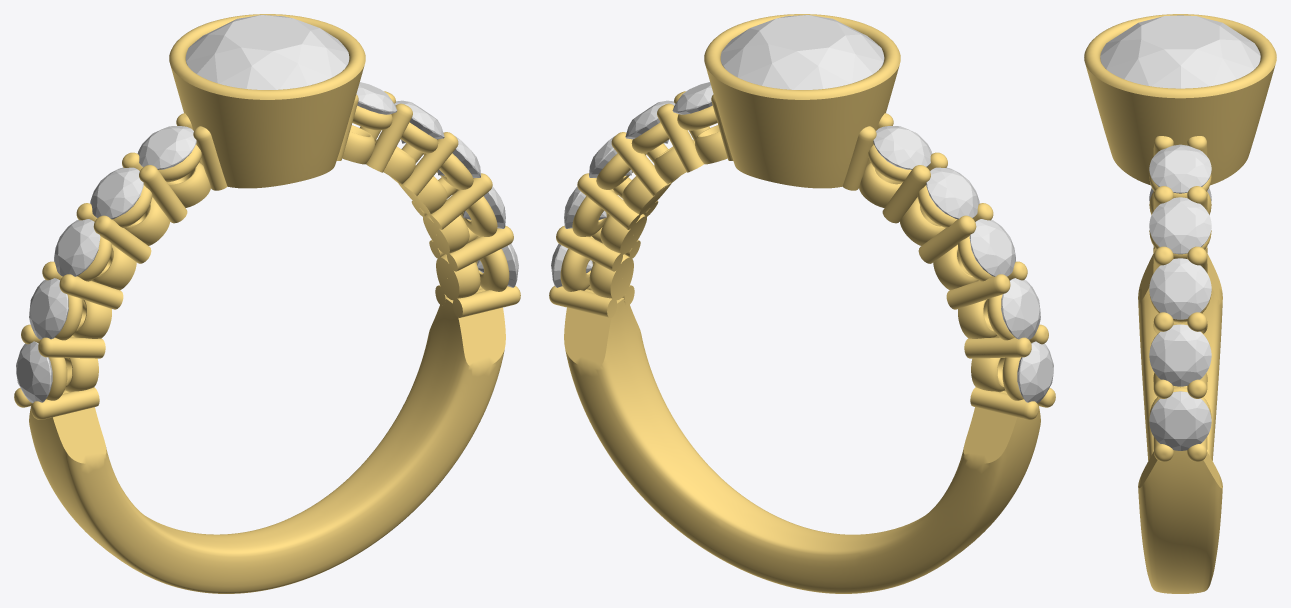
File: diamond-round-yellowgold-bezelset-straighttaperedband-11stone.glb
The picture shows the model from 3 angles, left to right: view 1: azimuth 30°, elevation 25°; view 2: azimuth 150°, elevation 25°; view 3: azimuth 270°, elevation 25°; orthographic projection. The views are drawn at different scales.
Parts seen in each view (by area): view 1: metal, stone, side.001, side.002, side, side.003, side.004, side.005, side.006; view 2: metal, stone, side.001, side.002, side, side.003, side.004, side.005, side.006; view 3: metal, stone, side.008, side.007, side.009, side.006, side.005.
Boxes of the visible parts, x1=… form: metal: x1=14, y1=14, x2=520, y2=593; stone: x1=185, y1=15, x2=349, y2=89; side.001: x1=90, y1=167, x2=143, y2=219; side.002: x1=54, y1=219, x2=100, y2=276; side: x1=137, y1=126, x2=196, y2=169; side.003: x1=29, y1=278, x2=68, y2=339; side.004: x1=16, y1=341, x2=52, y2=403; side.005: x1=356, y1=82, x2=397, y2=114; side.006: x1=394, y1=100, x2=444, y2=143; metal: x1=549, y1=14, x2=1055, y2=593; stone: x1=720, y1=15, x2=884, y2=89; side.001: x1=926, y1=167, x2=979, y2=219; side.002: x1=969, y1=219, x2=1015, y2=276; side: x1=873, y1=126, x2=932, y2=169; side.003: x1=1001, y1=278, x2=1040, y2=339; side.004: x1=1017, y1=341, x2=1053, y2=403; side.005: x1=672, y1=82, x2=713, y2=114; side.006: x1=625, y1=100, x2=675, y2=143; metal: x1=1084, y1=14, x2=1276, y2=593; stone: x1=1100, y1=15, x2=1260, y2=88; side.008: x1=1149, y1=324, x2=1211, y2=386; side.007: x1=1149, y1=258, x2=1211, y2=319; side.009: x1=1149, y1=391, x2=1211, y2=450; side.006: x1=1149, y1=197, x2=1211, y2=254; side.005: x1=1149, y1=144, x2=1211, y2=193.
Size of the model in its own units: 22.19 by 23.81 by 7.74.
